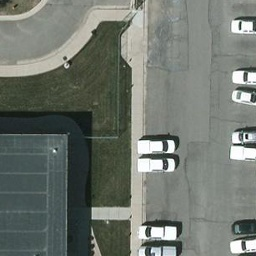car: (138, 221, 179, 240), (136, 138, 176, 154), (136, 157, 176, 173), (140, 243, 176, 256), (230, 219, 256, 234), (230, 237, 256, 252), (230, 145, 256, 160), (230, 90, 256, 105), (230, 69, 256, 84), (231, 17, 255, 33), (230, 129, 256, 143)
